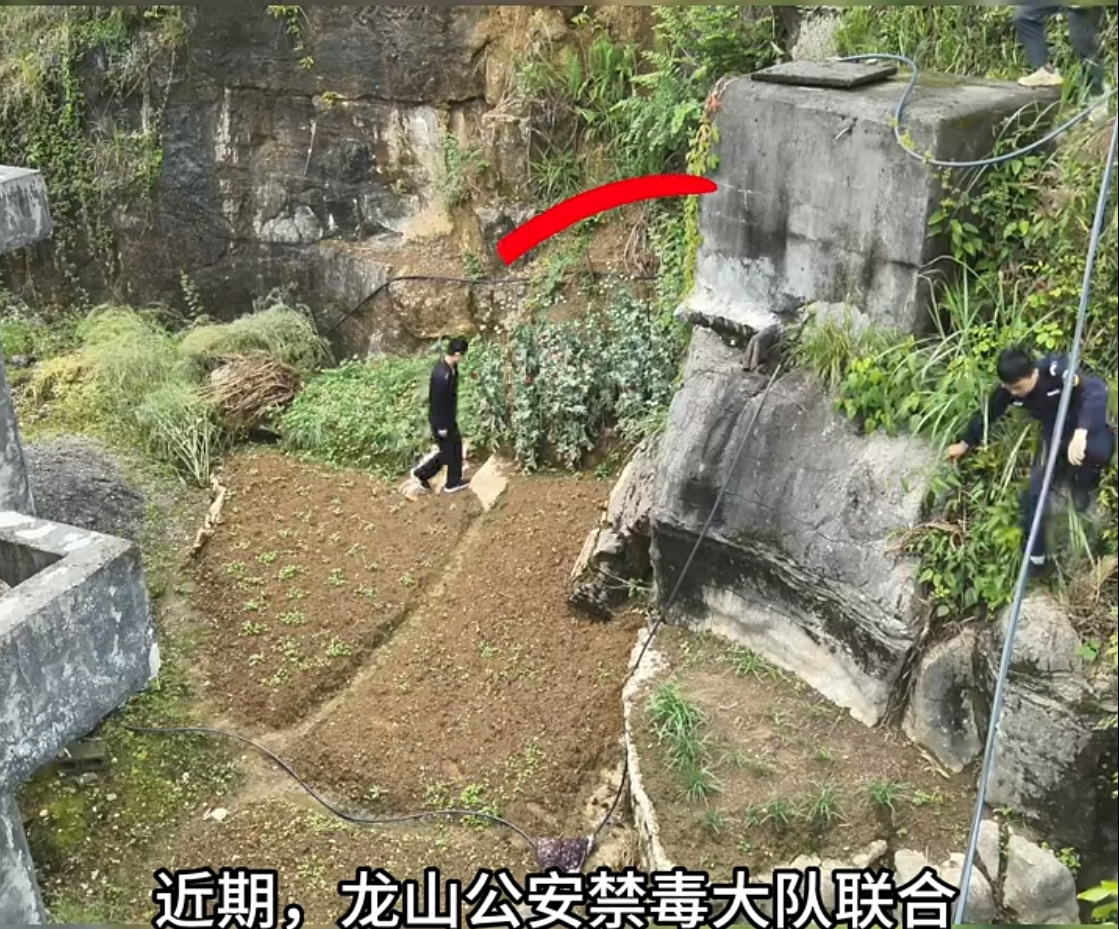Poppy: (465, 258, 673, 460)
